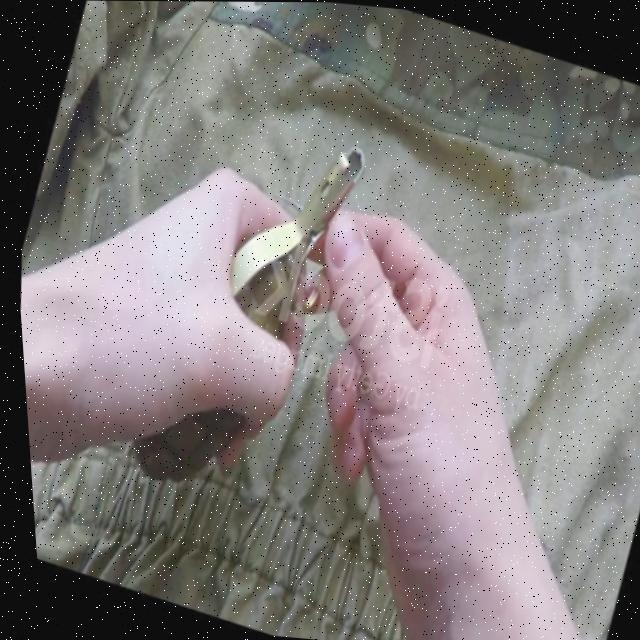grenade: (88, 91, 391, 531)
